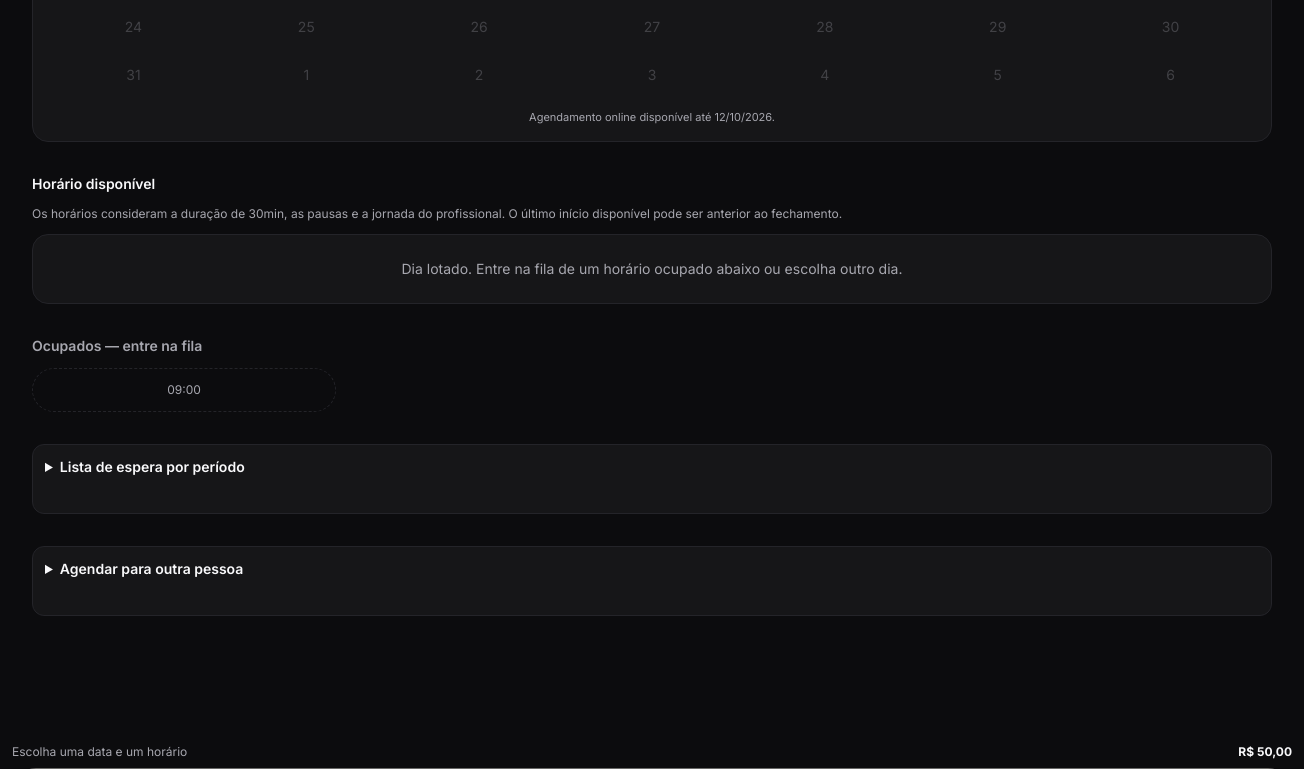
Test case: BookingFlow — confirmação e fila › permite entrar na fila para um horário ocupado e mostra a posição
(page scrolled)
Click the button "09:00". click: [184, 390]
box: [32, 368, 336, 412]
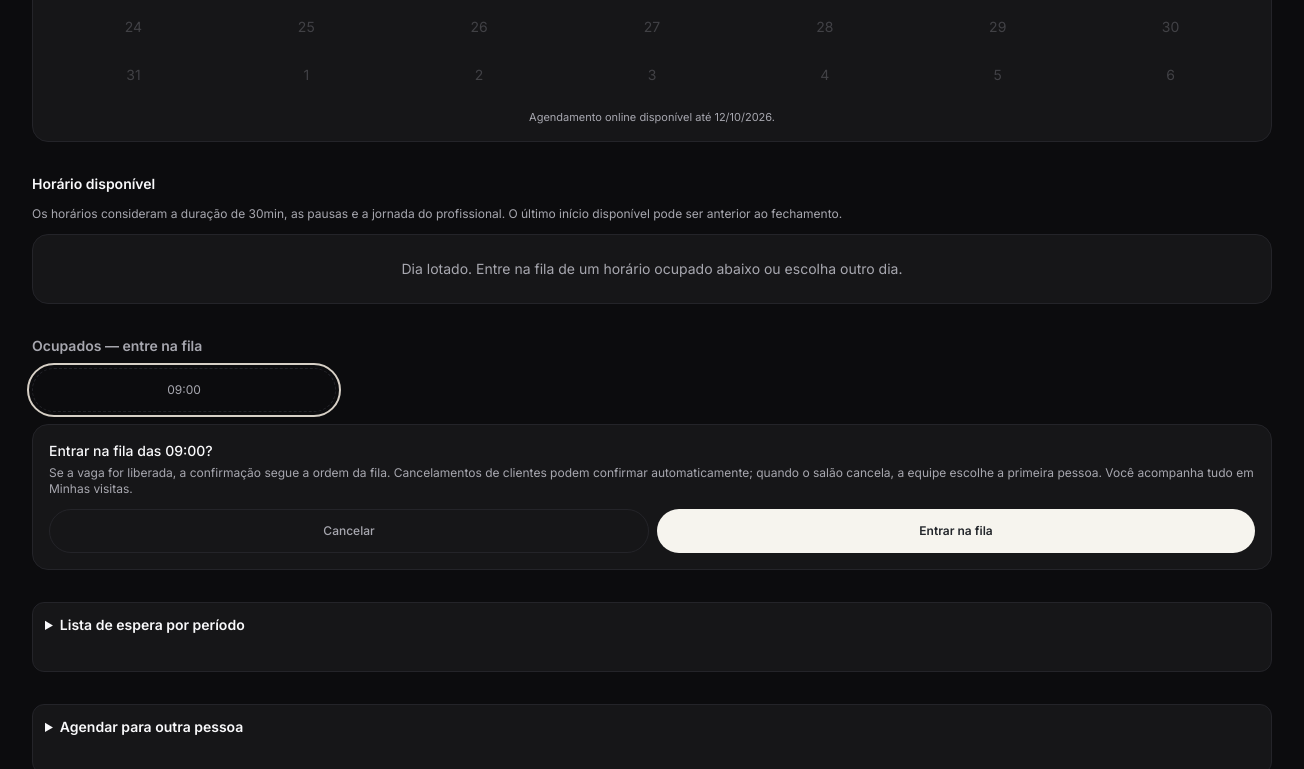
Click the button "Entrar na fila". click: [956, 531]
box: [657, 509, 1255, 553]
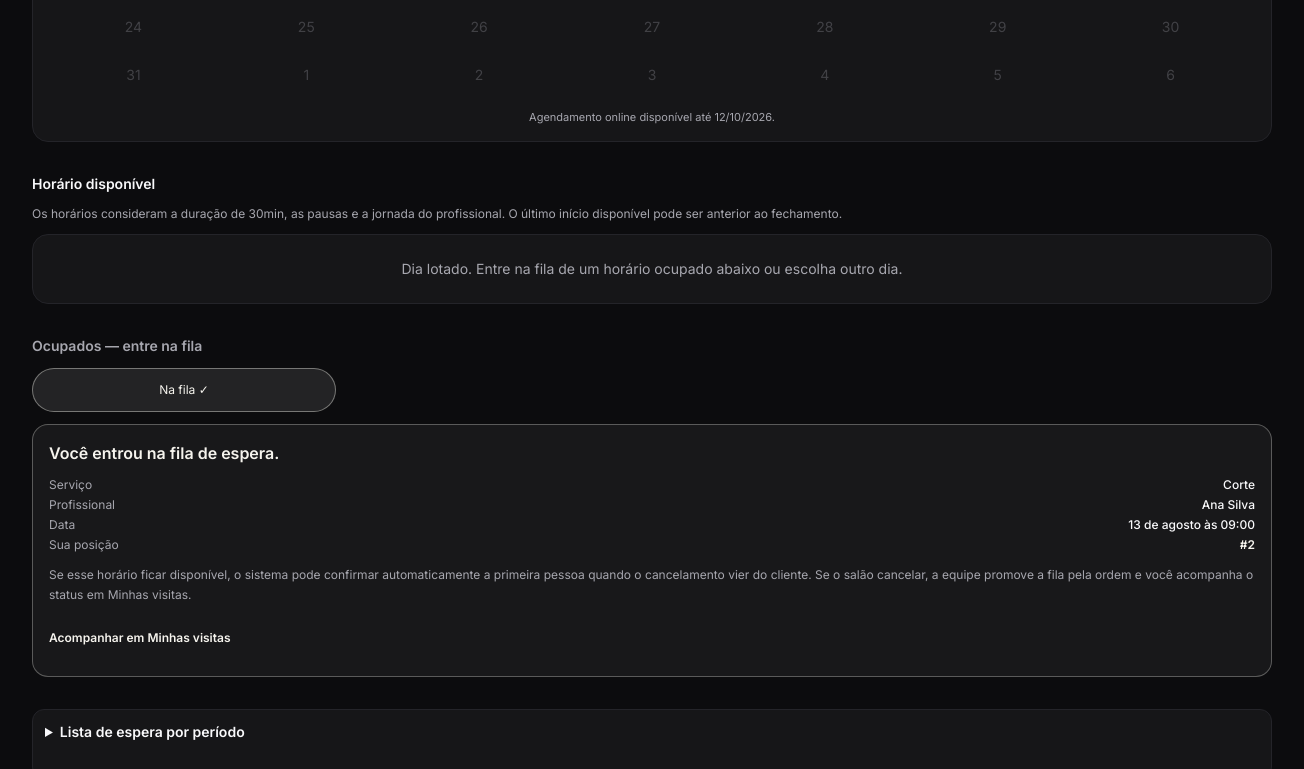
Check: the text "#2" is shown, box [1240, 537, 1255, 552]
Check: the text "Você entrou na fila de espera." is shown, box [49, 443, 279, 463]
